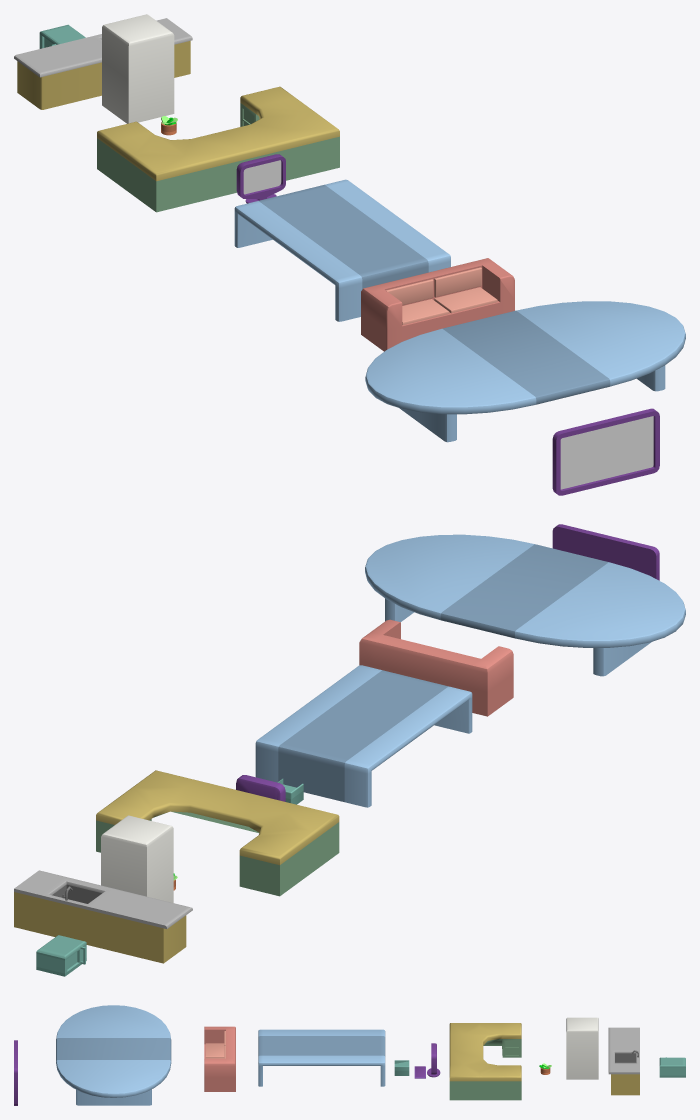
Rendered from OfficeAssets.fbx.
The picture shows the model from 3 angles, top to bottom: view 1: azimuth 30°, elevation 25°; view 2: azimuth 150°, elevation 25°; view 3: azimuth 270°, elevation 25°; orthographic projection. The views are drawn at different scales.
Parts seen in each view (by area): view 1: ConferenceTable, Desk, BreakRoomTable, Couch, Fridge, TV, Counter, Computer; view 2: ConferenceTable, BreakRoomTable, Desk, Counter, Couch, Fridge, TV, Microwave, Computer; view 3: ConferenceTable, Desk, BreakRoomTable, Counter, Couch, Fridge, Microwave, Computer, TV, Tray.
Boxes of the visible parts, x1,y1,x2,y2 form: ConferenceTable: [365, 301, 685, 442]; Desk: [97, 86, 339, 212]; BreakRoomTable: [234, 179, 450, 321]; Couch: [361, 258, 514, 351]; Fridge: [102, 14, 174, 123]; TV: [552, 408, 659, 495]; Counter: [14, 18, 192, 109]; Computer: [236, 154, 285, 203]; ConferenceTable: [365, 534, 685, 676]; BreakRoomTable: [255, 665, 472, 807]; Desk: [96, 770, 339, 896]; Counter: [14, 870, 192, 963]; Couch: [359, 619, 513, 716]; Fridge: [101, 815, 173, 902]; TV: [552, 524, 659, 580]; Microwave: [36, 935, 86, 976]; Computer: [236, 775, 285, 801]; ConferenceTable: [56, 1005, 171, 1105]; Desk: [449, 1023, 521, 1100]; BreakRoomTable: [258, 1029, 385, 1086]; Counter: [608, 1027, 639, 1095]; Couch: [204, 1026, 235, 1091]; Fridge: [566, 1017, 598, 1079]; Microwave: [659, 1057, 685, 1077]; Computer: [414, 1043, 440, 1078]; TV: [14, 1040, 17, 1105]; Tray: [394, 1060, 409, 1075].
Bounding box in the file's own units: 1319 × 471 × 4205.
